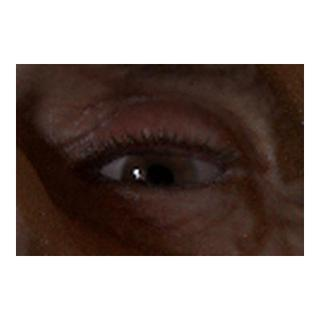pupil: (144, 165, 173, 195)
